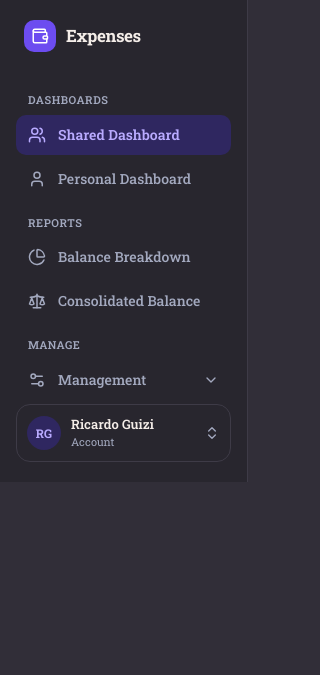
AppSidebar management section › is collapsed by default and expands on click
The width and height of the screenshot is (320, 675).
Expected: the link "Stores" is not shown
Click the button "Management": (124, 380) [16,360,231,400]
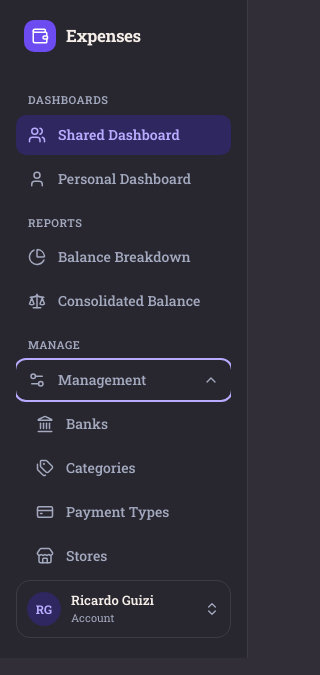
Result: the button "Management" is expanded at [16,360,231,400]
